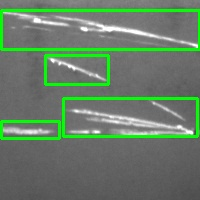scratches: (1, 10, 199, 49), (63, 98, 197, 136), (45, 55, 108, 84), (1, 121, 59, 138)
